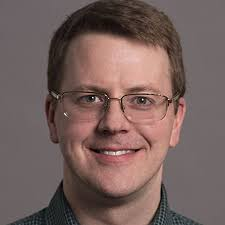s.white: (121, 114, 167, 173)
